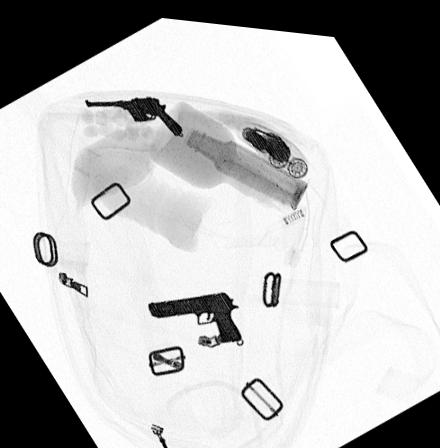Gun: (147, 283, 242, 337), (82, 91, 182, 131)
